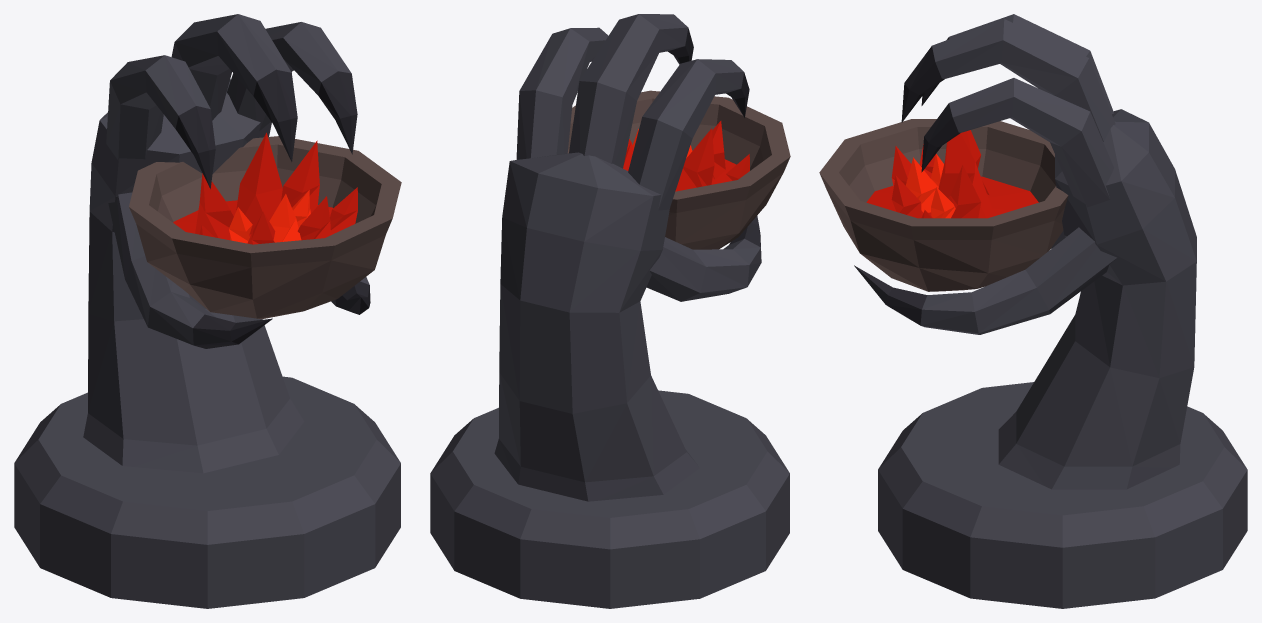
File: dragonfire-brazier-6bc2ce.glb
3 views of the same model, side by side, from view 1: azimuth 30°, elevation 25°; view 2: azimuth 150°, elevation 25°; view 3: azimuth 270°, elevation 25° (orthographic). The views are drawn at different scales.
Parts seen in each view (by area): view 1: claw, breath; view 2: claw, breath; view 3: claw, breath.
Boxes of the visible parts, x1,y1,x2,y2 form: claw: (14,14,401,608); breath: (173,132,357,244); claw: (430,14,790,608); breath: (623,121,749,191); claw: (819,14,1247,608); breath: (866,130,1038,218).
Size of the model in its own units: 1.04 by 1.59 by 1.2.
